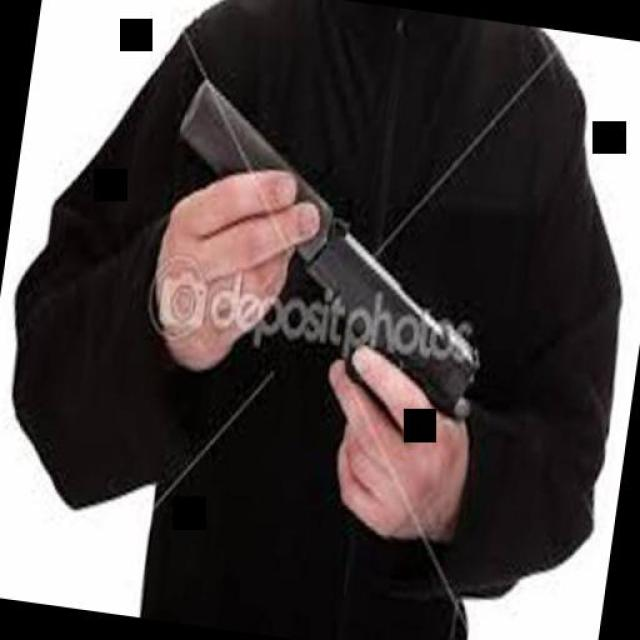gun: (145, 72, 513, 464)
